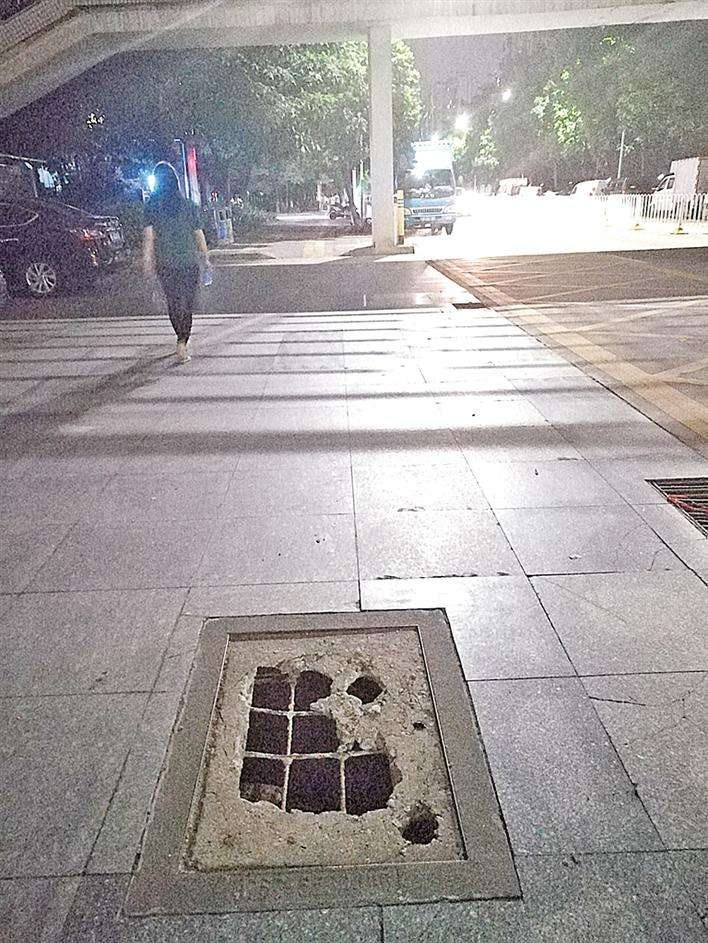broke: (124, 606, 533, 913)
